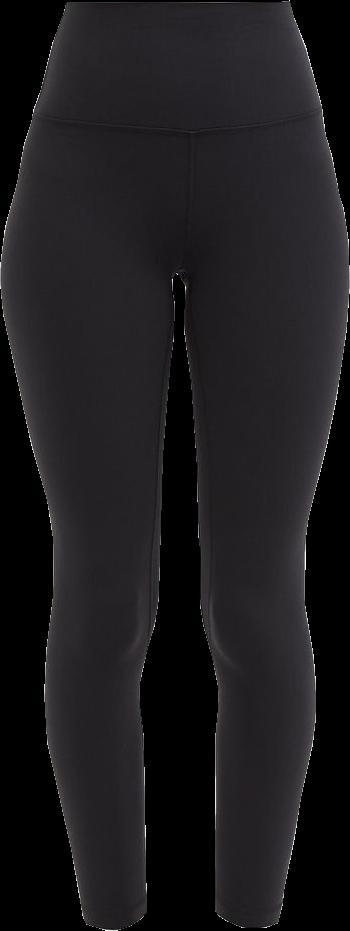Hemline: (214, 903, 278, 930), (82, 910, 149, 930)
Pantleg: (1, 1, 177, 927), (178, 0, 348, 928)
Waistline: (32, 107, 317, 139), (65, 0, 290, 16)
